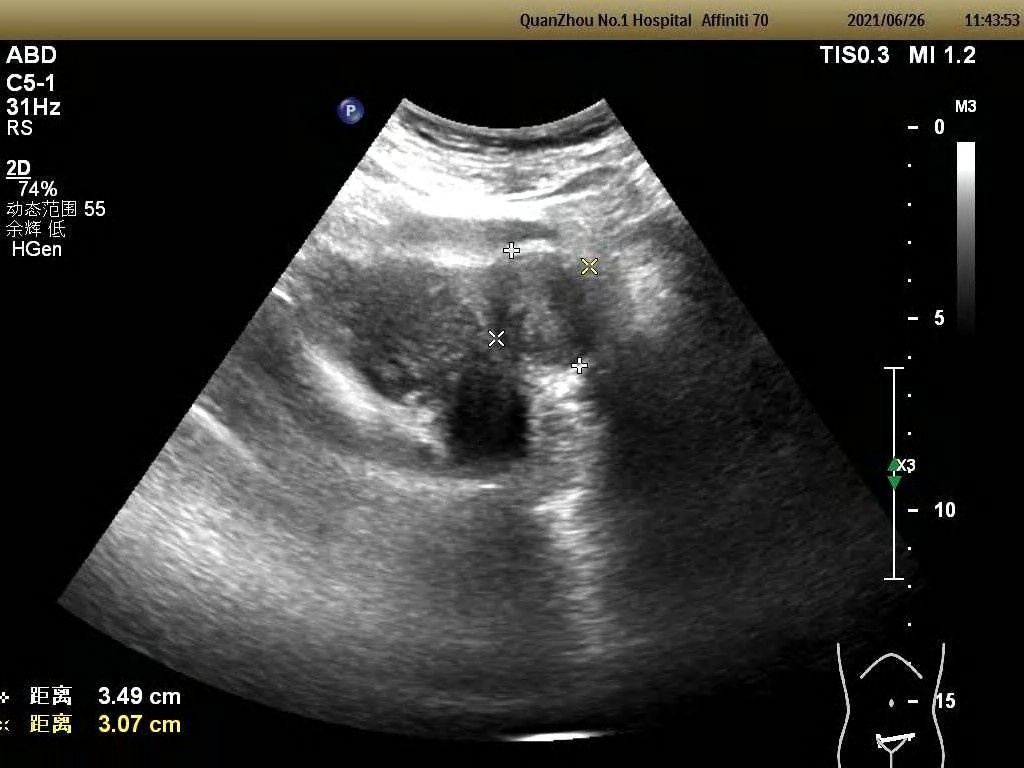肌瘤: (494, 250, 592, 367)
